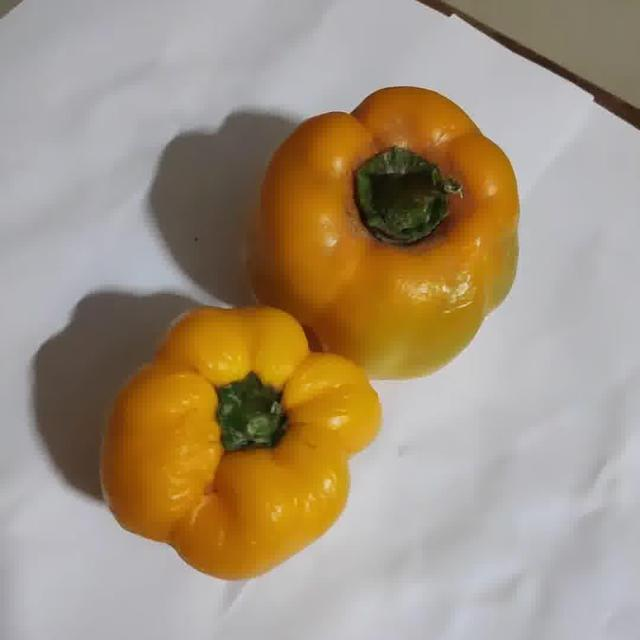Bell Pepper: (244, 87, 519, 379), (101, 308, 381, 580)
